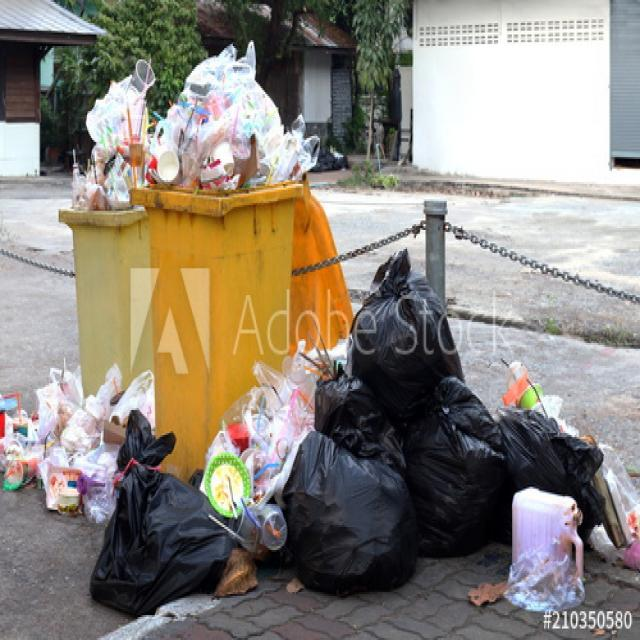plastic_bag: (282, 430, 420, 593), (101, 436, 235, 603), (356, 277, 459, 413), (414, 381, 503, 536), (493, 415, 602, 528), (322, 358, 399, 471)
